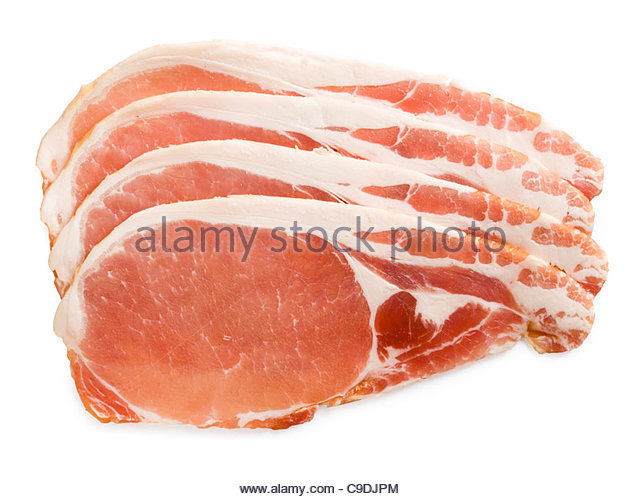bacon: (38, 40, 576, 383)
